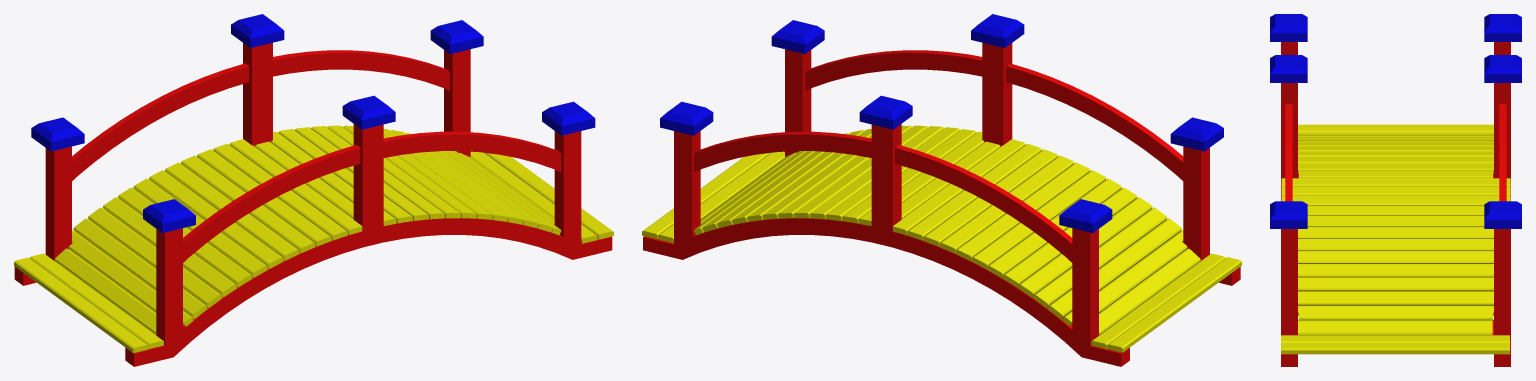
File: Bridge_2.fbx
3 renders of one model, left to right at view 1: azimuth 30°, elevation 25°; view 2: azimuth 150°, elevation 25°; view 3: azimuth 270°, elevation 25°, orthographic. The views are drawn at different scales.
Parts seen in each view (by area): view 1: polySurface137; view 2: polySurface137; view 3: polySurface137.
Boxes of the visible parts, x1,y1,x2,y2 form: polySurface137: (14,14,613,366); polySurface137: (642,14,1241,366); polySurface137: (1270,14,1521,366).
Size of the model in its own units: 31.31 by 12.57 by 14.77.
